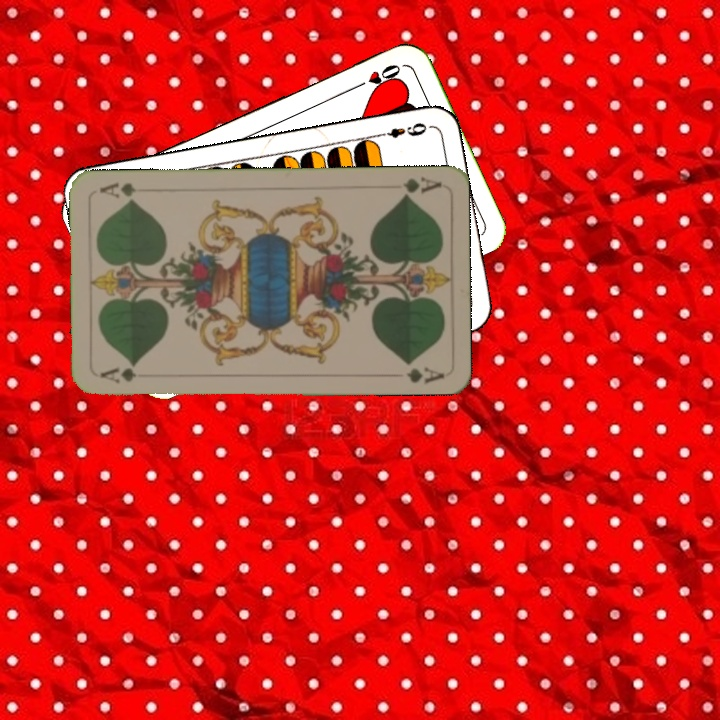E9: (374, 118, 433, 141)
GA: (399, 173, 443, 200), (96, 363, 139, 386)
HO: (349, 60, 403, 92)
